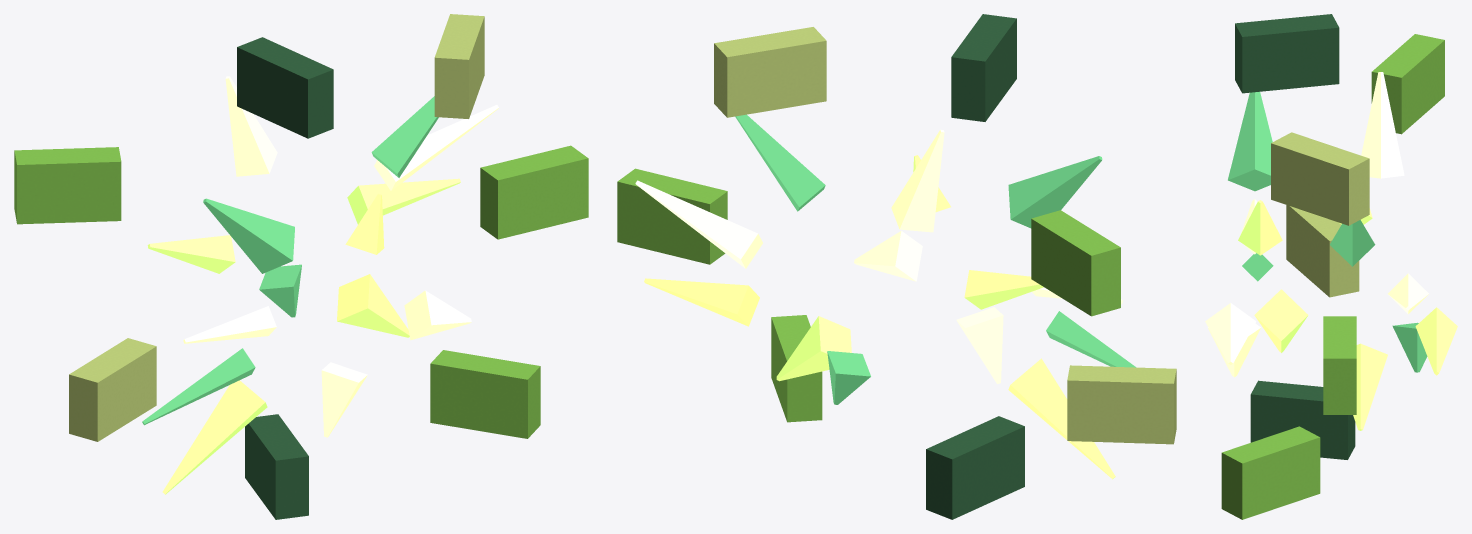
Rendered from bands.glb.
3 renders of one model, left to right at view 1: azimuth 30°, elevation 25°; view 2: azimuth 150°, elevation 25°; view 3: azimuth 270°, elevation 25°, orthographic. The views are drawn at different scales.
Visible parts, largest first — view 1: Money Explosion dimensional effect.001; view 2: Money Explosion dimensional effect.001; view 3: Money Explosion dimensional effect.001.
Part boxes in pixels (box(x1,y1,x2,y2)): Money Explosion dimensional effect.001: box(14, 14, 588, 519); Money Explosion dimensional effect.001: box(617, 14, 1176, 519); Money Explosion dimensional effect.001: box(1205, 14, 1457, 519).
Bounding box in the file's own units: 1.39 × 1.12 × 0.6093.
Materials: 4 (1 with a texture image).
